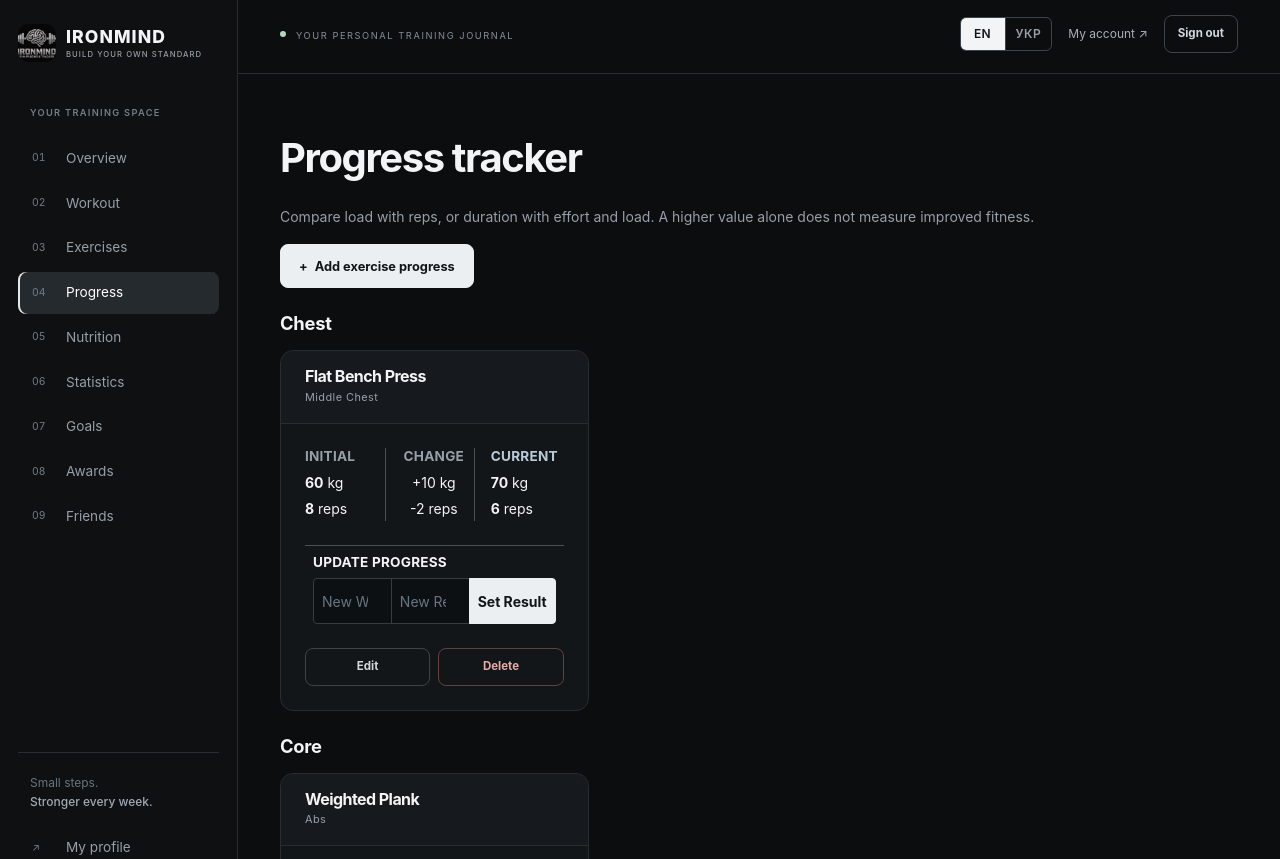
Test: progress tracker › updates a current result, keeps cards without one and deletes a tracker
Step 1. Click the button "Set Result" → (512, 601), box top-left (469, 578), bottom-right (556, 624)
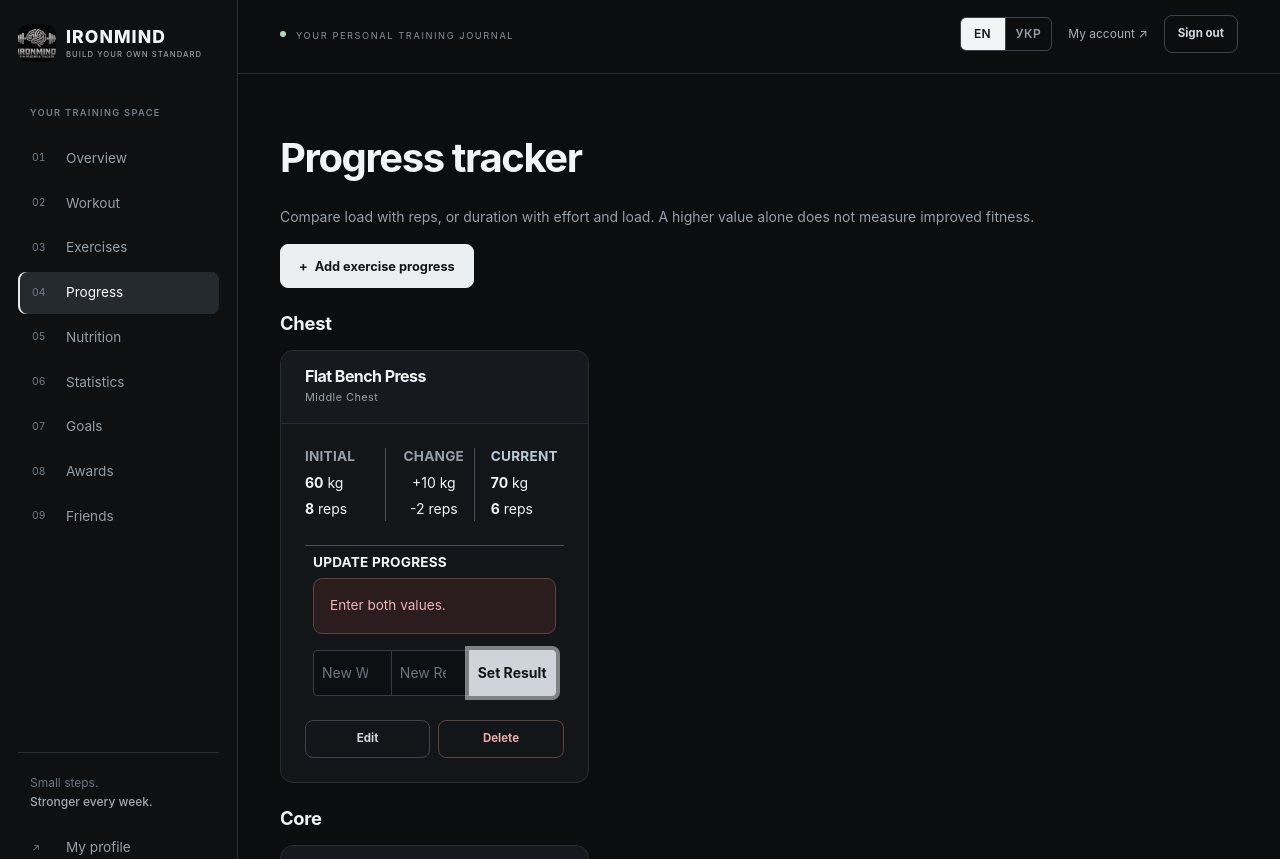
Step 2. Type "72.5" into the number field with placeholder "New Weight" → (352, 673), box top-left (313, 650), bottom-right (392, 696)
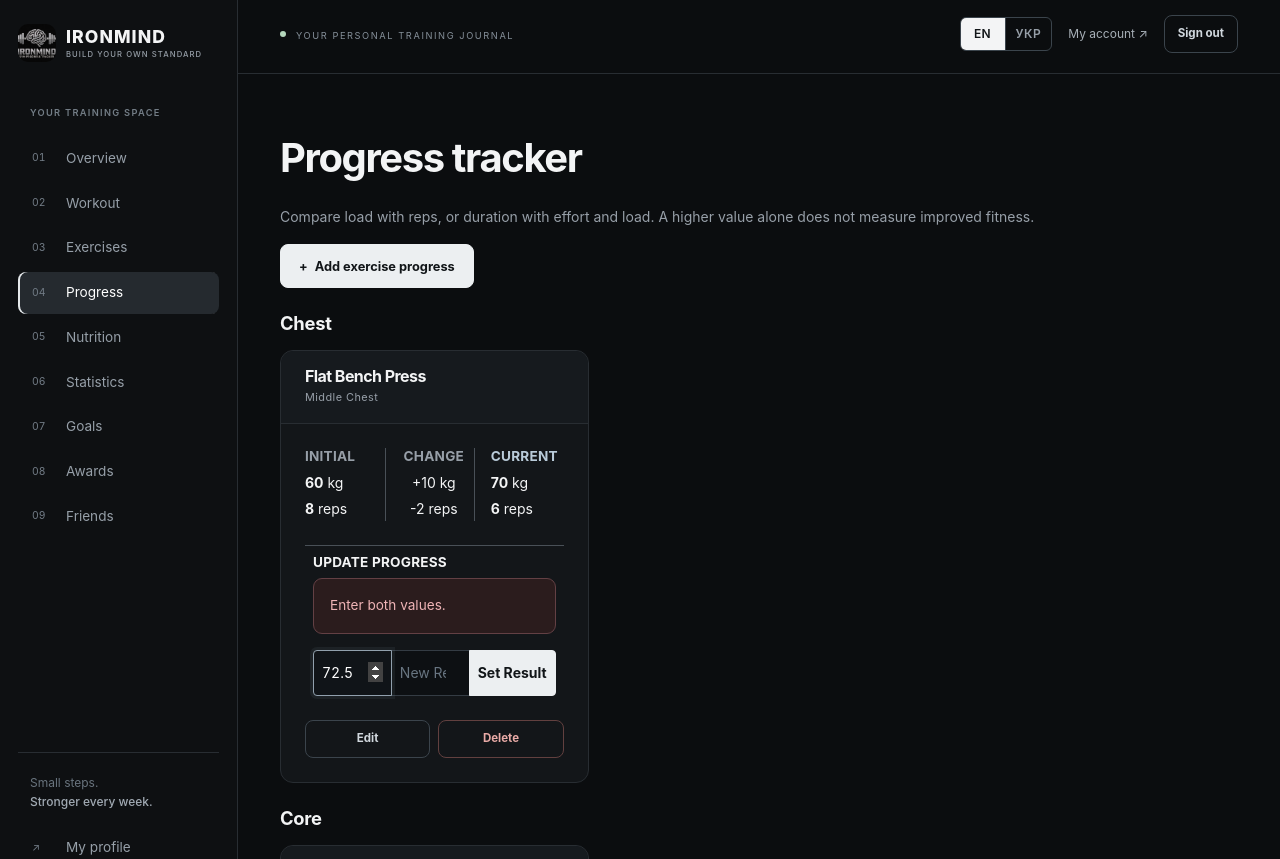
Step 3. Type "6" into the number field with placeholder "New Reps" → (430, 673), box top-left (391, 650), bottom-right (470, 696)
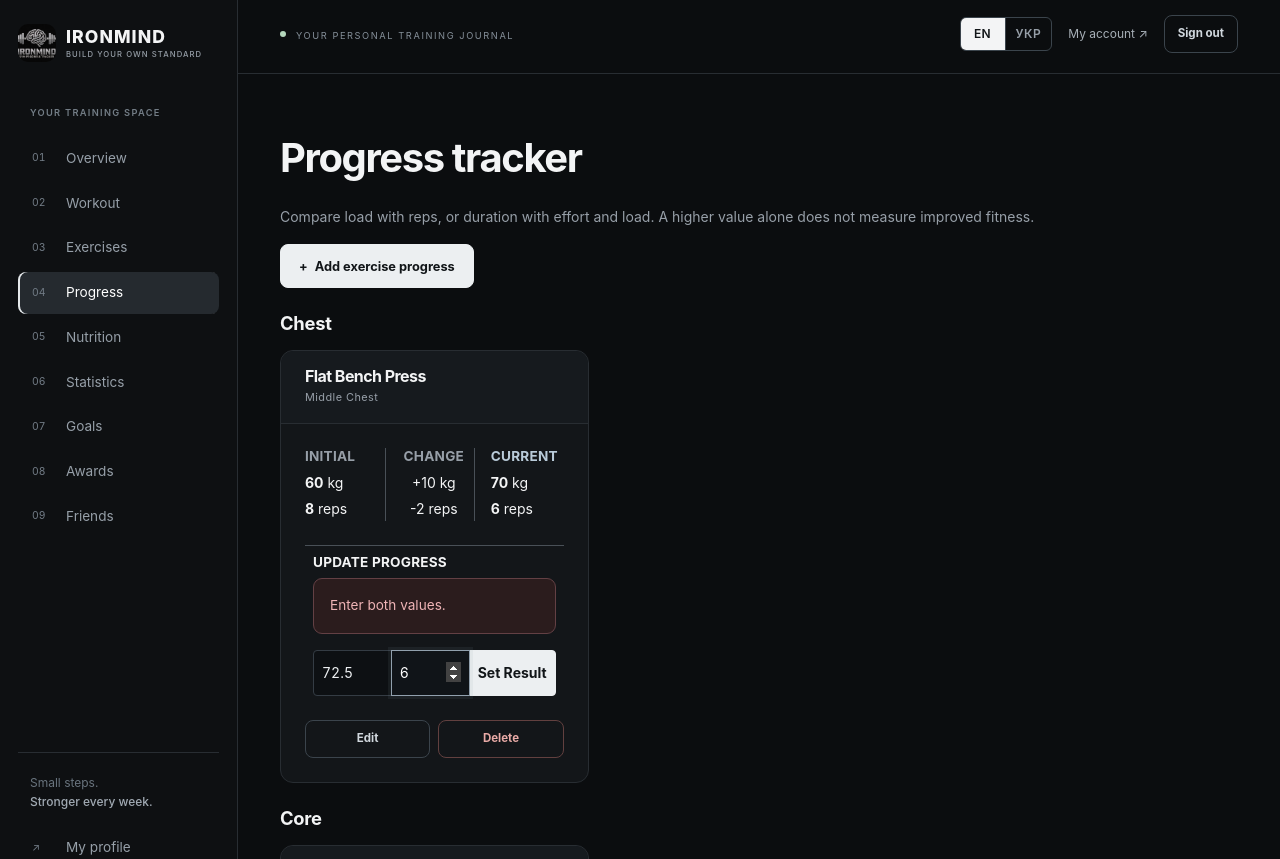
Step 4. Click the button "Set Result" → (512, 673), box top-left (469, 650), bottom-right (556, 696)
(page scrolled)
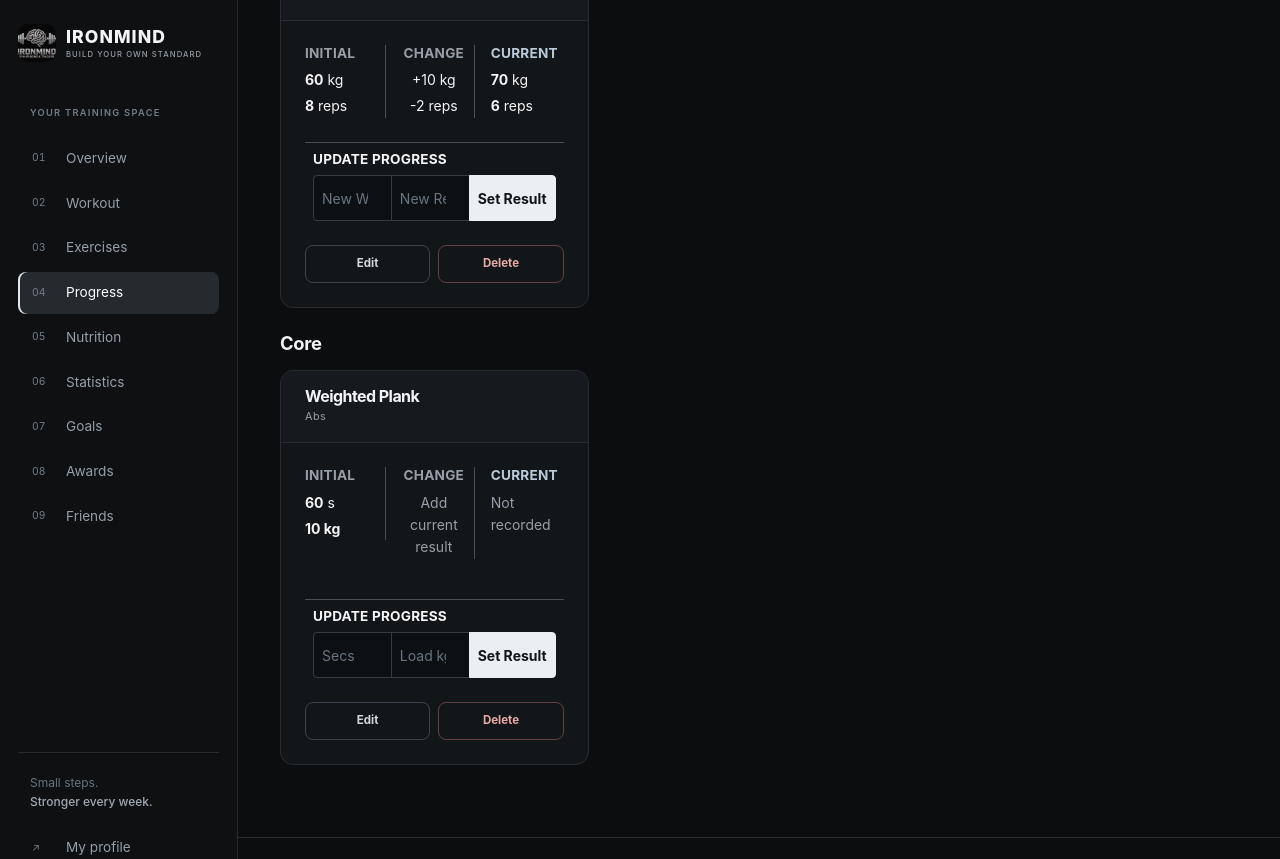
Step 5. Click the button "Delete" below "Add current result" → (501, 721), box top-left (438, 702), bottom-right (564, 740)
(page scrolled)
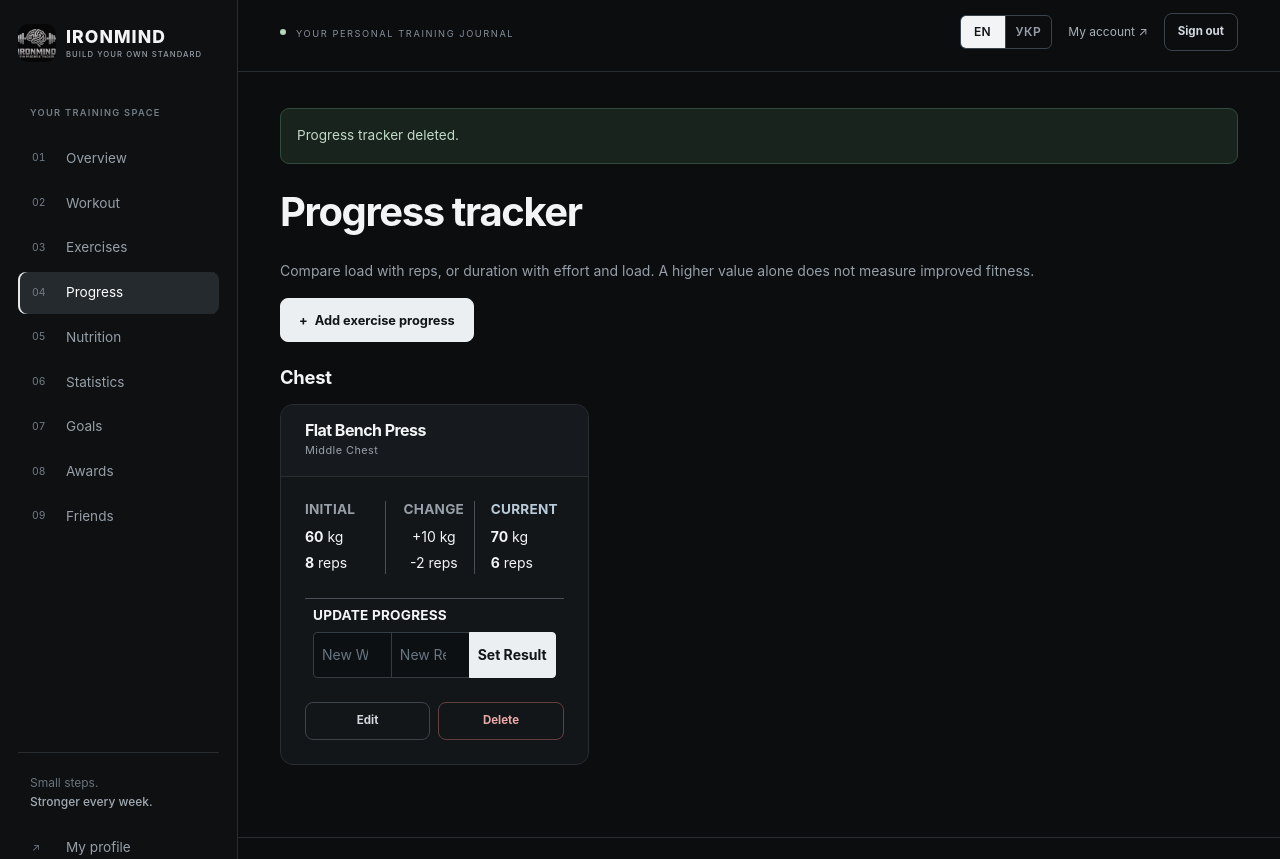
Expected: the text "Progress tracker deleted." is shown, top-left (280, 108), bottom-right (1238, 164)
Expected: the heading "Weighted Plank" is gone
